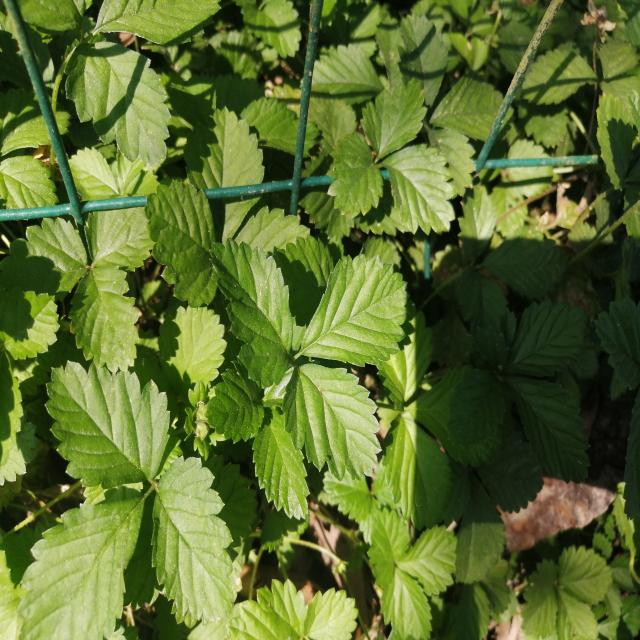Mock_strawberry: (24, 344, 241, 622), (206, 243, 394, 473)
